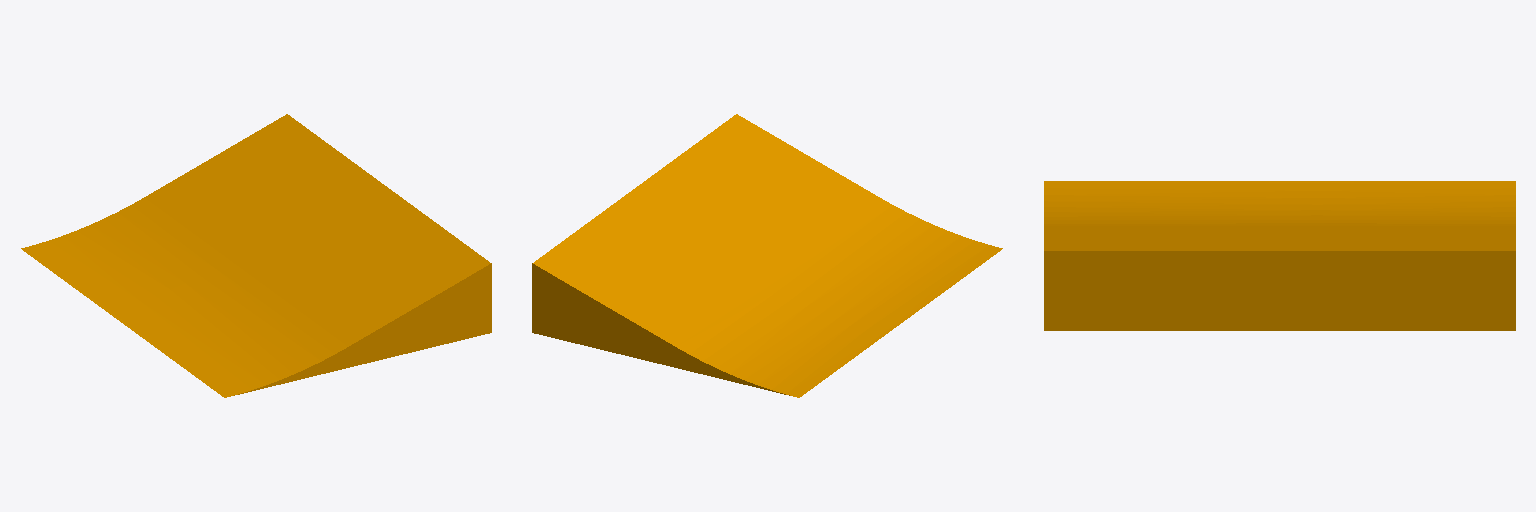
The robot description file, URDF, robot "jump18deg":
<?xml version="1.0"?>

<robot name="jump18deg">
  <gazebo>
    <static>true</static>
  </gazebo>
  <link name="jump18deg_link">
    <origin pose="0 0 0 0 0 0"/>
    <collision name="jump18deg_collision">
      <geometry>
        <mesh filename="package://autorally_description/urdf/cad/jump18deg.stl" scale="0.01 0.01 0.01" />
      </geometry>
    </collision>

    <visual name="jump18deg_visual" cast_shadows="false">
      <geometry>
        <mesh filename="package://autorally_description/urdf/cad/jump18deg.stl" scale="0.01 0.01 0.01" />
      </geometry>
    </visual>
    <inertial>
      <origin xyz="0 0 0" />
      <mass value="1000000000.0" />
      <inertia  ixx="1.0" ixy="0.0"  ixz="0.0"  iyy="100.0"  iyz="0.0"  izz="1.0" />
    </inertial>
  </link>
  <gazebo reference="jump18deg_link">
    <material>Gazebo/Grey</material>
    <mu1>1.0</mu1>
    <mu2>1.0</mu2>
  </gazebo>

</robot>

--- What the picture shows (computed from the rendered views, not written in the file) ---
3 views of the same robot in one strip: view 1: azimuth 30°, elevation 25°; view 2: azimuth 150°, elevation 25°; view 3: azimuth 270°, elevation 25° (orthographic).
Robot: jump18deg — 1 links, 0 joints (none); root link jump18deg_link; default pose: all joints at 0.
Links seen in each view (by area): view 1: jump18deg_link; view 2: jump18deg_link; view 3: jump18deg_link.
Link boxes in pixels (x1,y1,x2,y2): jump18deg_link: [21, 114, 491, 397]; jump18deg_link: [532, 114, 1002, 397]; jump18deg_link: [1044, 181, 1515, 330].
Size in the robot's own frame: 1.51 by 2 by 0.3768 metres.
Meshes: 1 distinct files referenced, 1 mesh visuals loaded (1 binary STL).